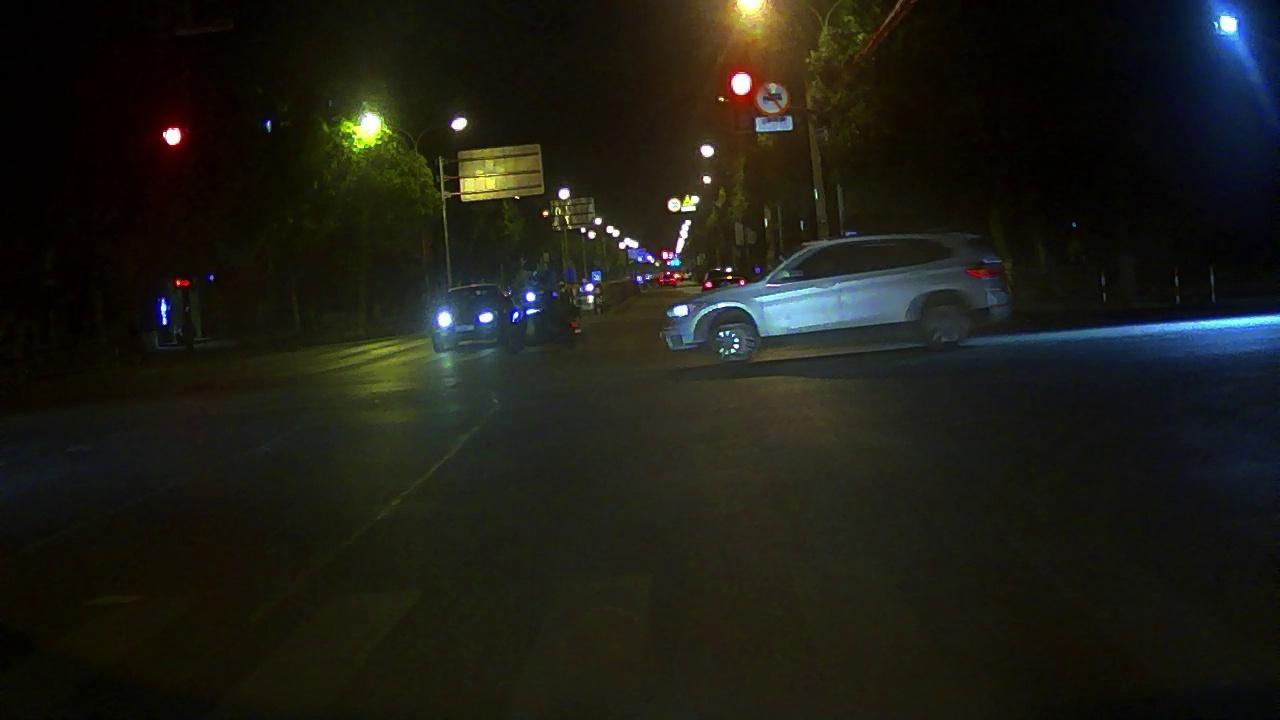traffic_light: (725, 65, 757, 101)
